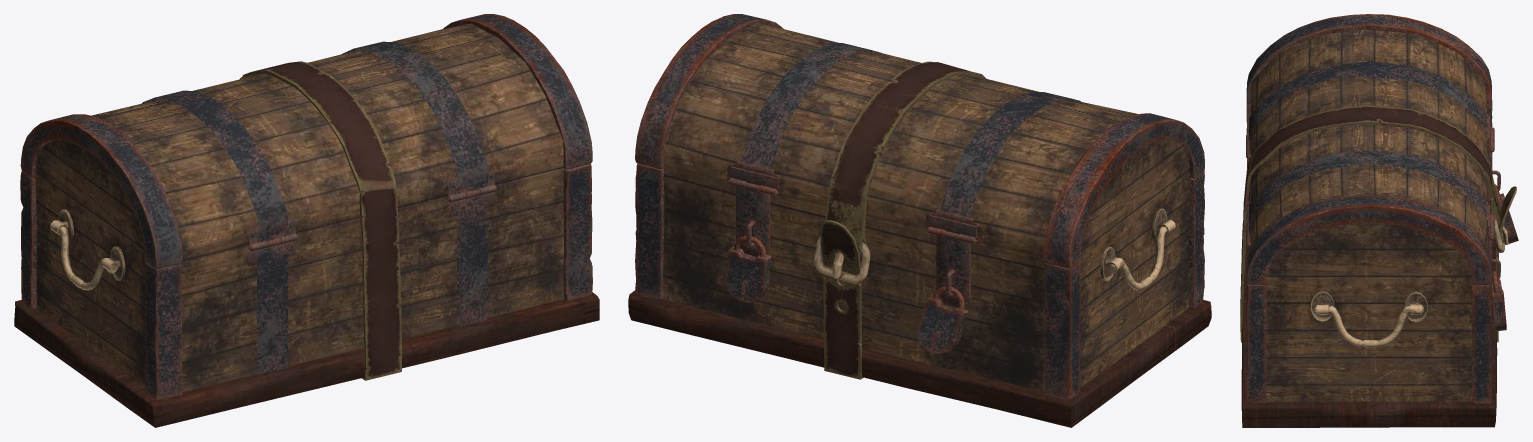
Rendered from chest_small.glb.
The picture shows the model from 3 angles, left to right: view 1: azimuth 30°, elevation 25°; view 2: azimuth 150°, elevation 25°; view 3: azimuth 270°, elevation 25°; orthographic projection. The views are drawn at different scales.
Parts seen in each view (by area): view 1: defaultMaterial; view 2: defaultMaterial; view 3: defaultMaterial.
Part boxes in pixels (x1,y1,x2,y2): defaultMaterial: [14, 14, 599, 427]; defaultMaterial: [628, 14, 1211, 427]; defaultMaterial: [1240, 14, 1518, 427].
Size of the model in its own units: 2 by 1.03 by 1.15.
1 material, 1 textured.
